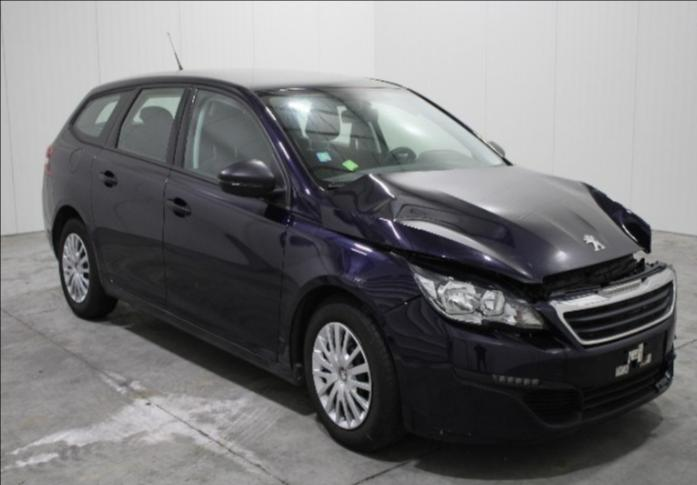Broken part: (306, 165, 670, 307), (404, 260, 567, 351), (451, 312, 561, 343), (656, 345, 675, 393)
Flaking: (241, 342, 277, 362), (278, 334, 291, 368)
